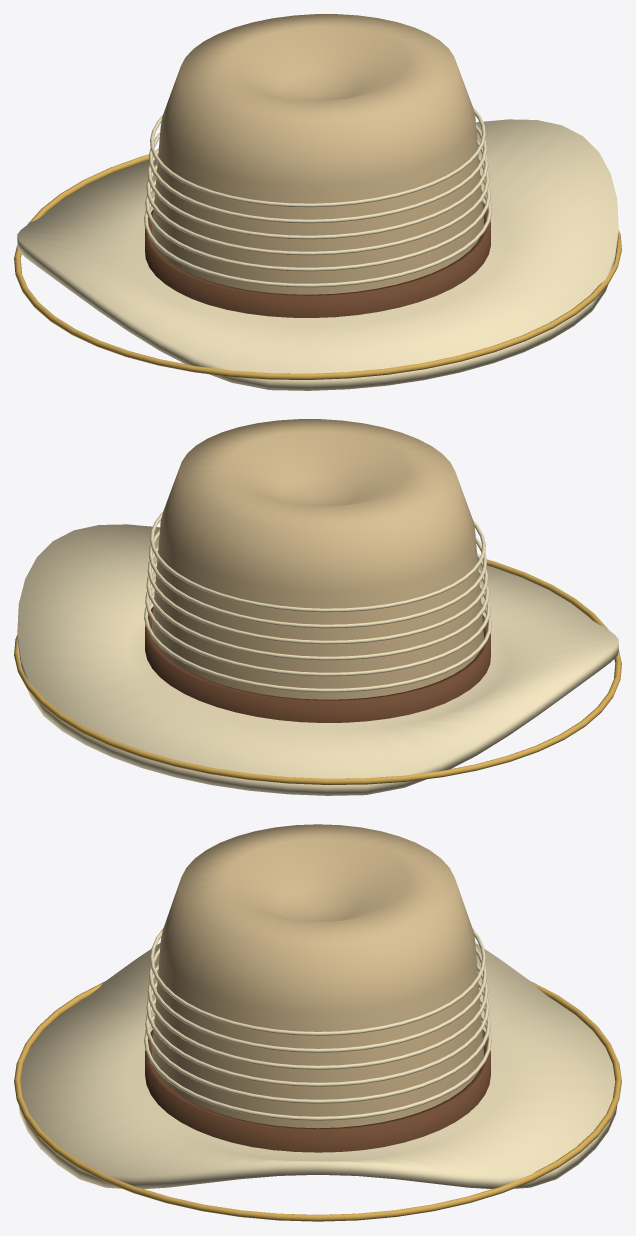
The model's file is 08-high-noon-straw.glb.
The picture shows the model from 3 angles, top to bottom: view 1: azimuth 30°, elevation 25°; view 2: azimuth 150°, elevation 25°; view 3: azimuth 270°, elevation 25°; orthographic projection. The views are drawn at different scales.
Visible parts, largest first — view 1: Hat08_Crown1, Hat08_Brim2, Hat08_Band3, Hat08_Piping10, Hat08_Piping9, Hat08_Piping4, Hat08_Piping5, Hat08_Piping6, Hat08_Piping8, Hat08_Piping7; view 2: Hat08_Crown1, Hat08_Brim2, Hat08_Band3, Hat08_Piping10, Hat08_Piping9, Hat08_Piping4, Hat08_Piping5, Hat08_Piping6, Hat08_Piping8, Hat08_Piping7; view 3: Hat08_Crown1, Hat08_Brim2, Hat08_Band3, Hat08_Piping10, Hat08_Piping9, Hat08_Piping5, Hat08_Piping4, Hat08_Piping8, Hat08_Piping6, Hat08_Piping7.
Boxes of the visible parts, x1=… form: Hat08_Crown1: x1=152, y1=14, x2=483, y2=294; Hat08_Brim2: x1=17, y1=119, x2=618, y2=390; Hat08_Band3: x1=145, y1=202, x2=490, y2=317; Hat08_Piping10: x1=14, y1=154, x2=621, y2=379; Hat08_Piping9: x1=150, y1=107, x2=485, y2=207; Hat08_Piping4: x1=144, y1=187, x2=491, y2=287; Hat08_Piping5: x1=145, y1=171, x2=490, y2=271; Hat08_Piping6: x1=146, y1=156, x2=489, y2=255; Hat08_Piping8: x1=148, y1=124, x2=486, y2=223; Hat08_Piping7: x1=147, y1=140, x2=488, y2=239; Hat08_Crown1: x1=152, y1=419, x2=483, y2=699; Hat08_Brim2: x1=17, y1=524, x2=618, y2=795; Hat08_Band3: x1=145, y1=607, x2=490, y2=722; Hat08_Piping10: x1=14, y1=559, x2=621, y2=784; Hat08_Piping9: x1=150, y1=512, x2=485, y2=612; Hat08_Piping4: x1=144, y1=592, x2=491, y2=692; Hat08_Piping5: x1=145, y1=576, x2=490, y2=676; Hat08_Piping6: x1=146, y1=561, x2=489, y2=660; Hat08_Piping8: x1=149, y1=529, x2=487, y2=628; Hat08_Piping7: x1=147, y1=545, x2=488, y2=644; Hat08_Crown1: x1=152, y1=824, x2=483, y2=1128; Hat08_Brim2: x1=18, y1=943, x2=617, y2=1189; Hat08_Band3: x1=145, y1=1030, x2=490, y2=1152; Hat08_Piping10: x1=14, y1=981, x2=621, y2=1221; Hat08_Piping9: x1=150, y1=928, x2=485, y2=1035; Hat08_Piping5: x1=145, y1=997, x2=490, y2=1103; Hat08_Piping4: x1=144, y1=1013, x2=491, y2=1120; Hat08_Piping8: x1=149, y1=947, x2=486, y2=1052; Hat08_Piping6: x1=146, y1=981, x2=489, y2=1086; Hat08_Piping7: x1=147, y1=963, x2=488, y2=1069.
Size of the model in its own units: 1.08 by 0.394 by 1.01.
